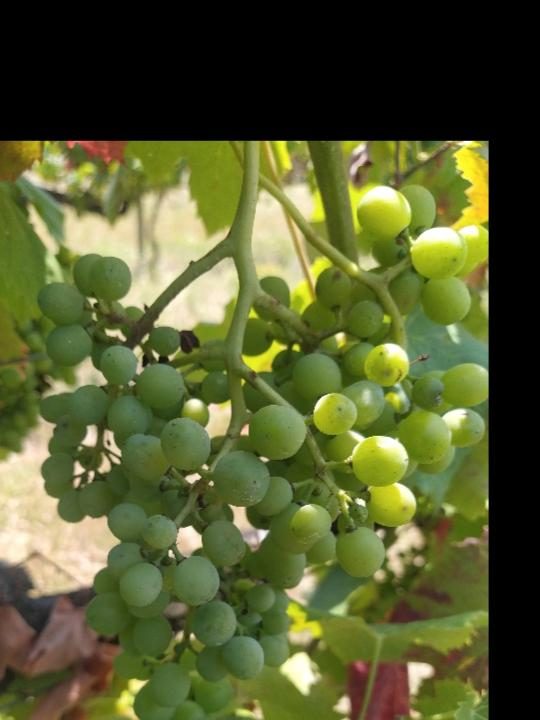grape: (32, 182, 486, 720)
